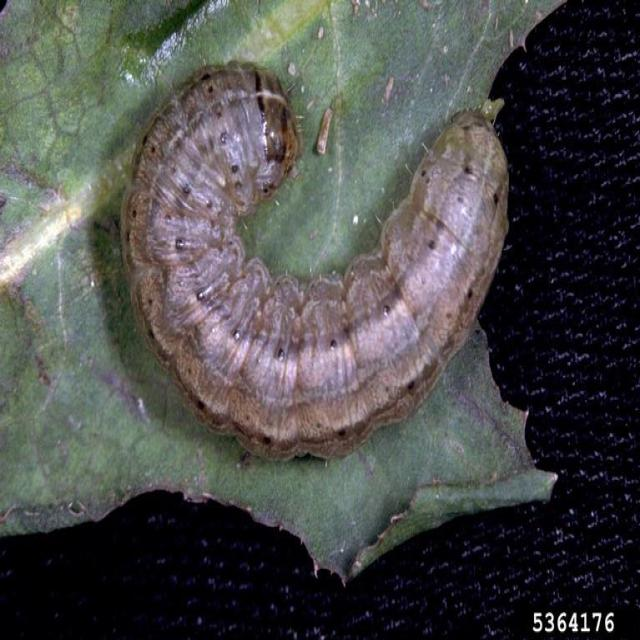Cutworm: (131, 61, 516, 463)
